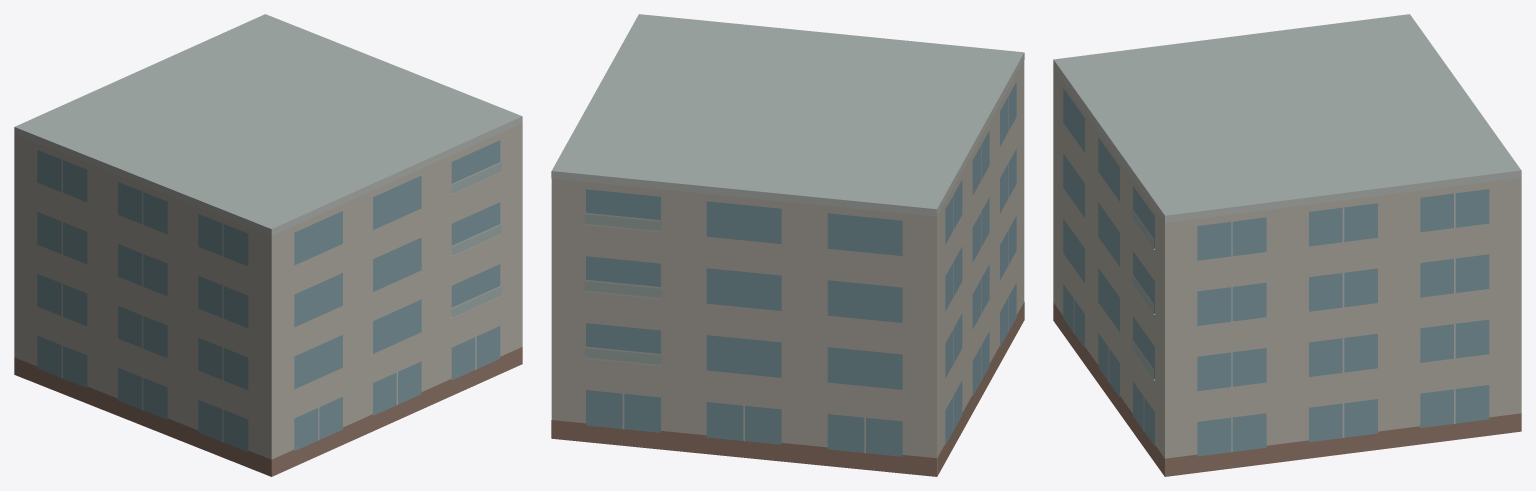
The model's file is survey-upis-32993974.glb.
3 renders of one model, left to right at view 1: azimuth 30°, elevation 25°; view 2: azimuth 150°, elevation 25°; view 3: azimuth 270°, elevation 25°, orthographic. The views are drawn at different scales.
Parts seen in each view (by area): view 1: survey-upis-32993974.tmp; view 2: survey-upis-32993974.tmp; view 3: survey-upis-32993974.tmp.
Boxes of the visible parts, x1,y1,x2,y2 form: survey-upis-32993974.tmp: (14, 14, 522, 476); survey-upis-32993974.tmp: (551, 14, 1024, 476); survey-upis-32993974.tmp: (1053, 14, 1521, 476).
Bounding box in the file's own units: 14.42 × 8.7 × 14.14.
